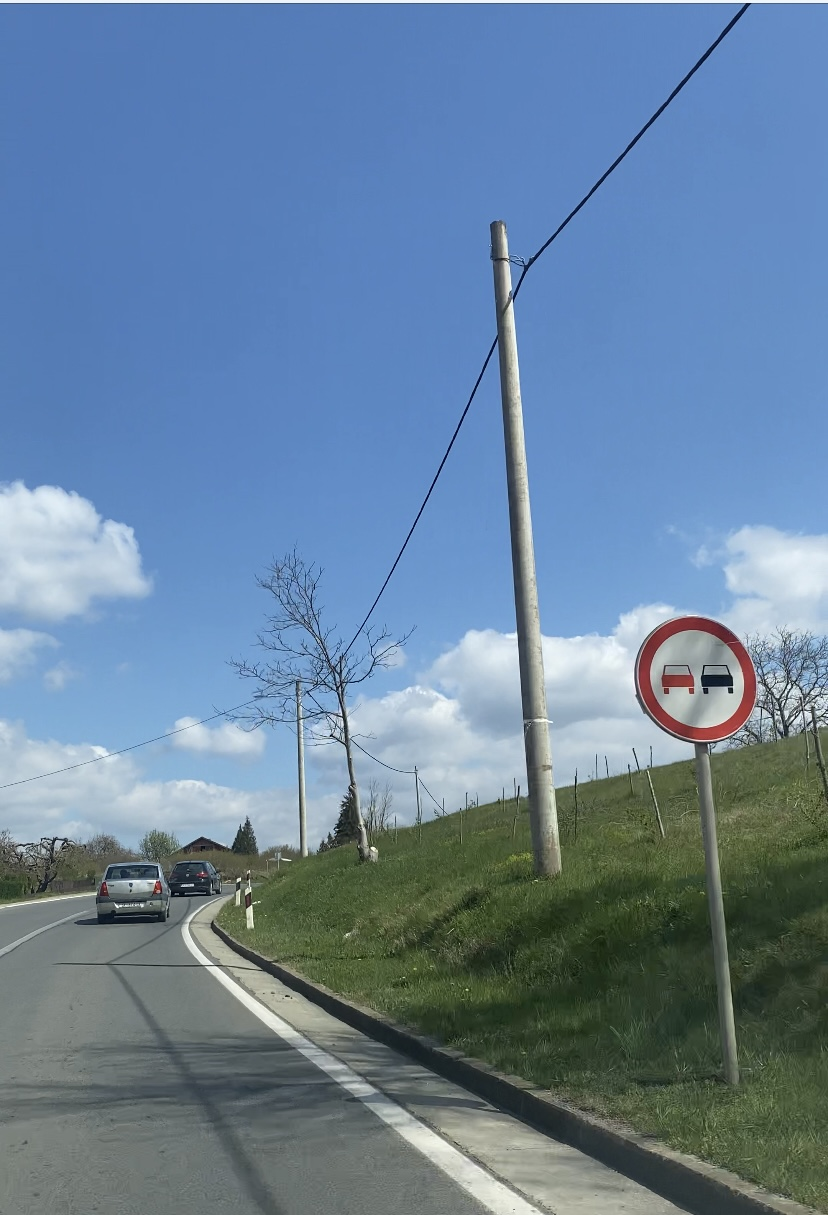Zabrana pretjecanja: (635, 615, 757, 743)
